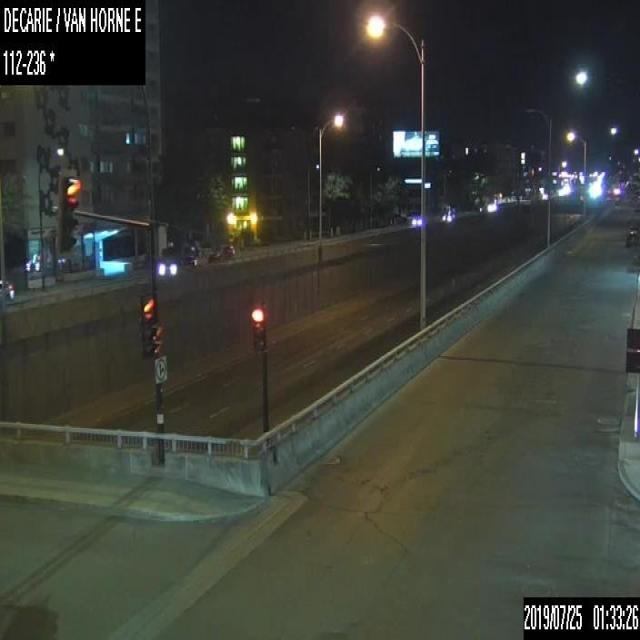vehicle: (158, 252, 195, 273), (208, 243, 233, 261), (0, 276, 14, 300), (442, 210, 454, 222)
